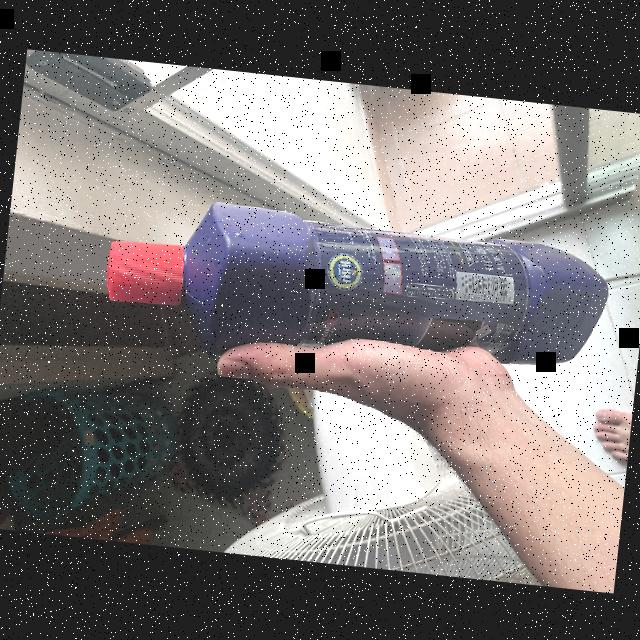toilet_cleaner: (92, 184, 618, 392)
